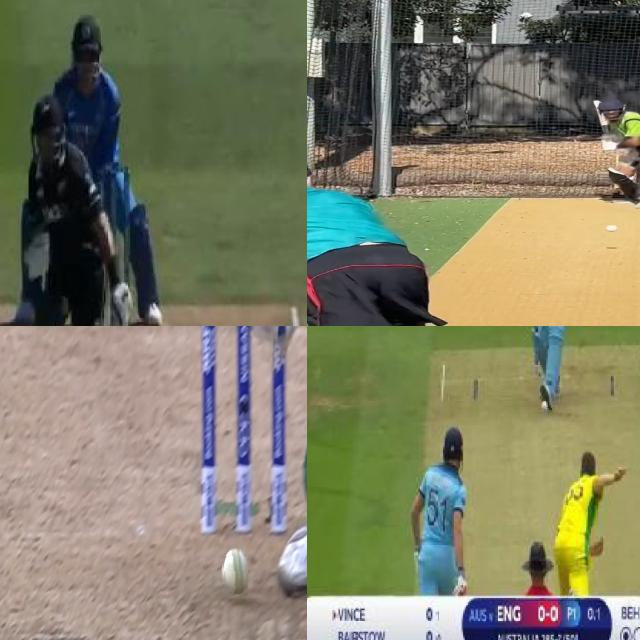Cricket ball: (222, 548, 248, 596), (539, 400, 552, 412), (606, 224, 618, 232)
